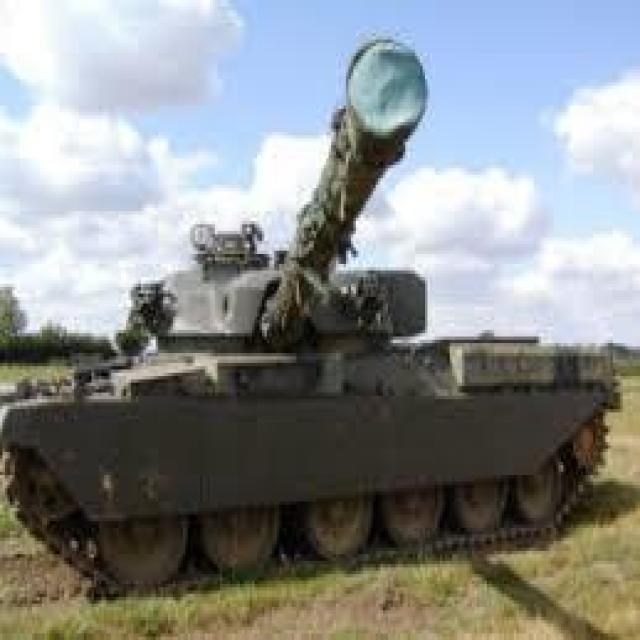MIL_MBT: (11, 41, 624, 595)
